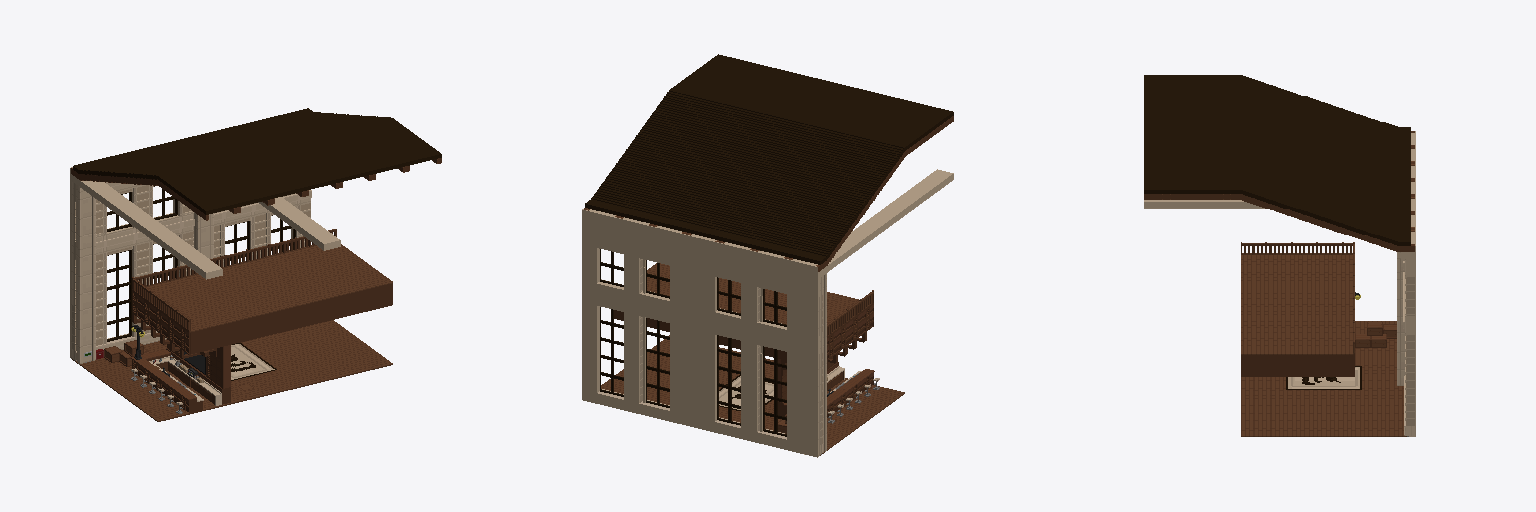
3 views of the same model, side by side, from view 1: azimuth 30°, elevation 25°; view 2: azimuth 150°, elevation 25°; view 3: azimuth 270°, elevation 25° (orthographic).
Visible parts, largest first — view 1: object 1; view 2: object 1; view 3: object 1.
Boxes of the visible parts, box(x1,y1,x2,y2) form: object 1: box(70, 108, 441, 421); object 1: box(582, 54, 953, 457); object 1: box(1144, 75, 1415, 436).
Size of the model in its own units: 25.6 by 25.6 by 25.6.
1 materials, 1 textured.